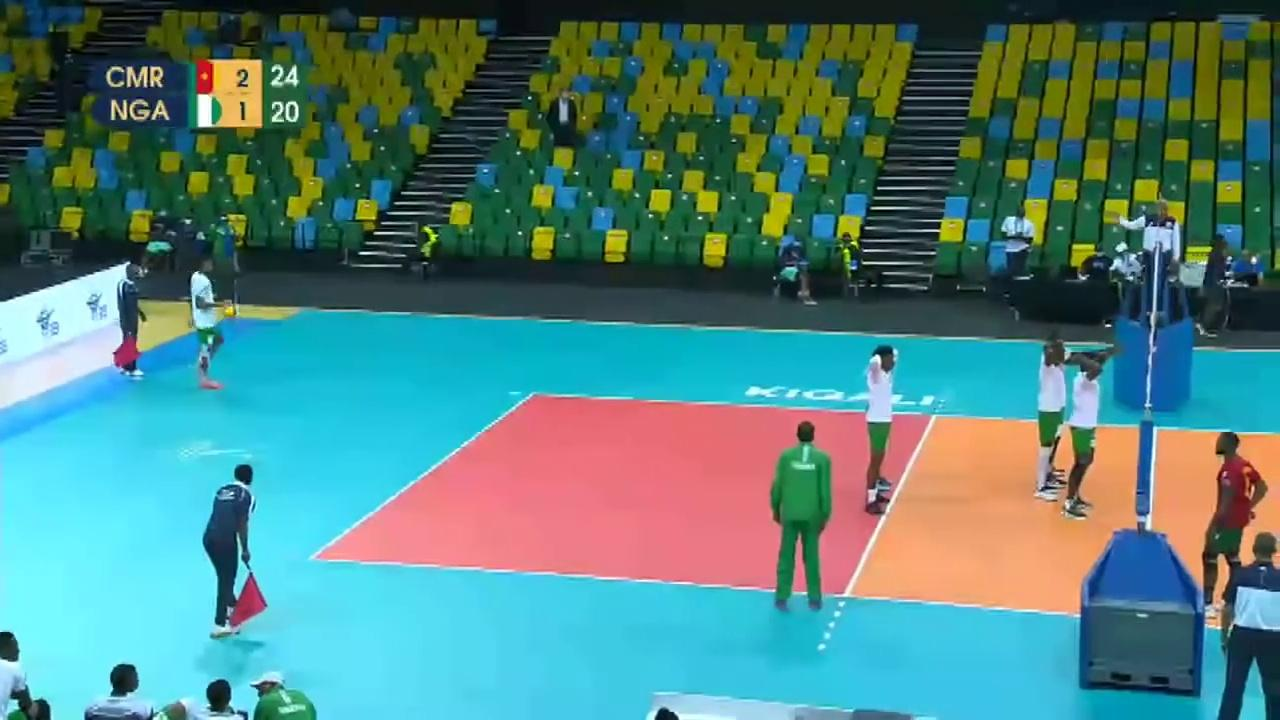player: (1197, 428, 1264, 610), (860, 338, 908, 516), (1070, 354, 1109, 526), (1036, 336, 1071, 506), (188, 260, 230, 388)
refree: (1222, 524, 1280, 720), (203, 466, 267, 633), (1135, 197, 1183, 315), (111, 261, 148, 378)
